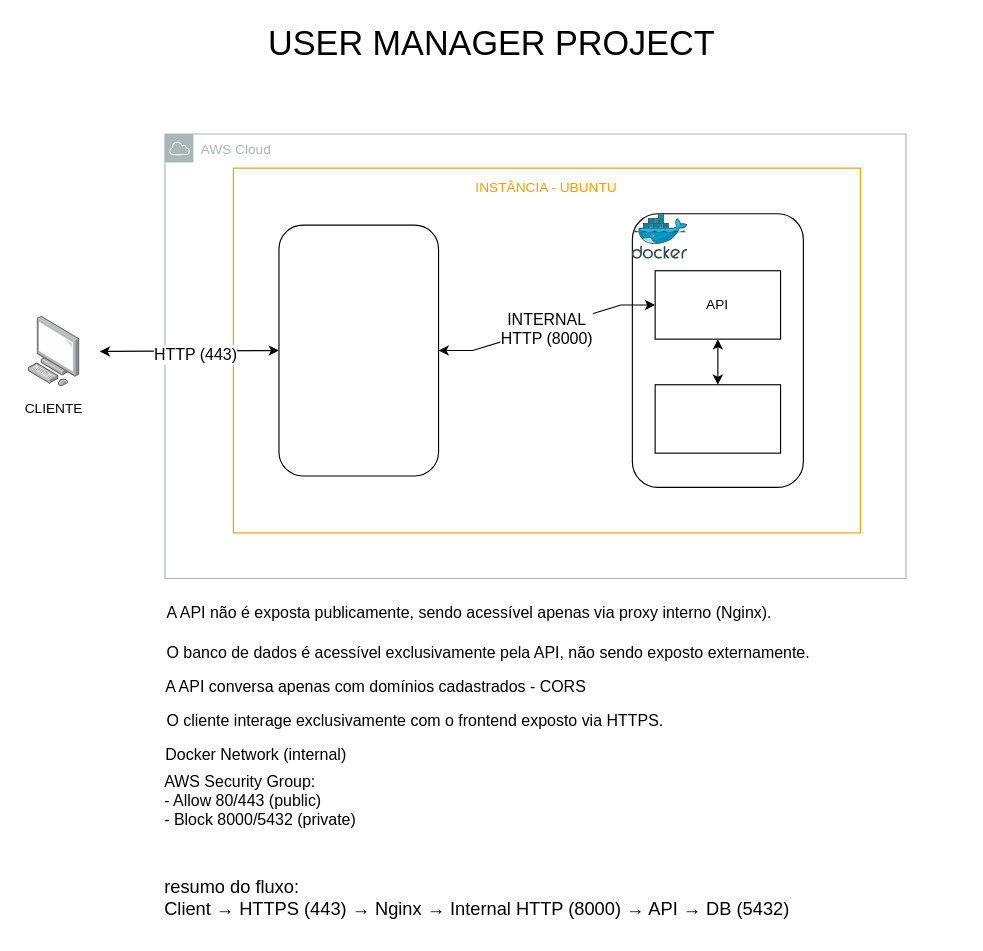
Some shapes in this 983 by 951 pixel diagram are drawn without their labels. Here are the shapes that lost their labels. From the top down, the centre of each, then its label:
At pixel 358 350: "NGINX REVERSE PROXY + TLS + SECURITY HEADERS".
At pixel 717 418: "PostgreSQL (5432)".
